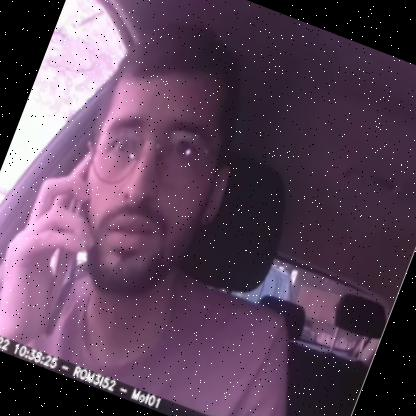phone: (5, 148, 125, 338)
